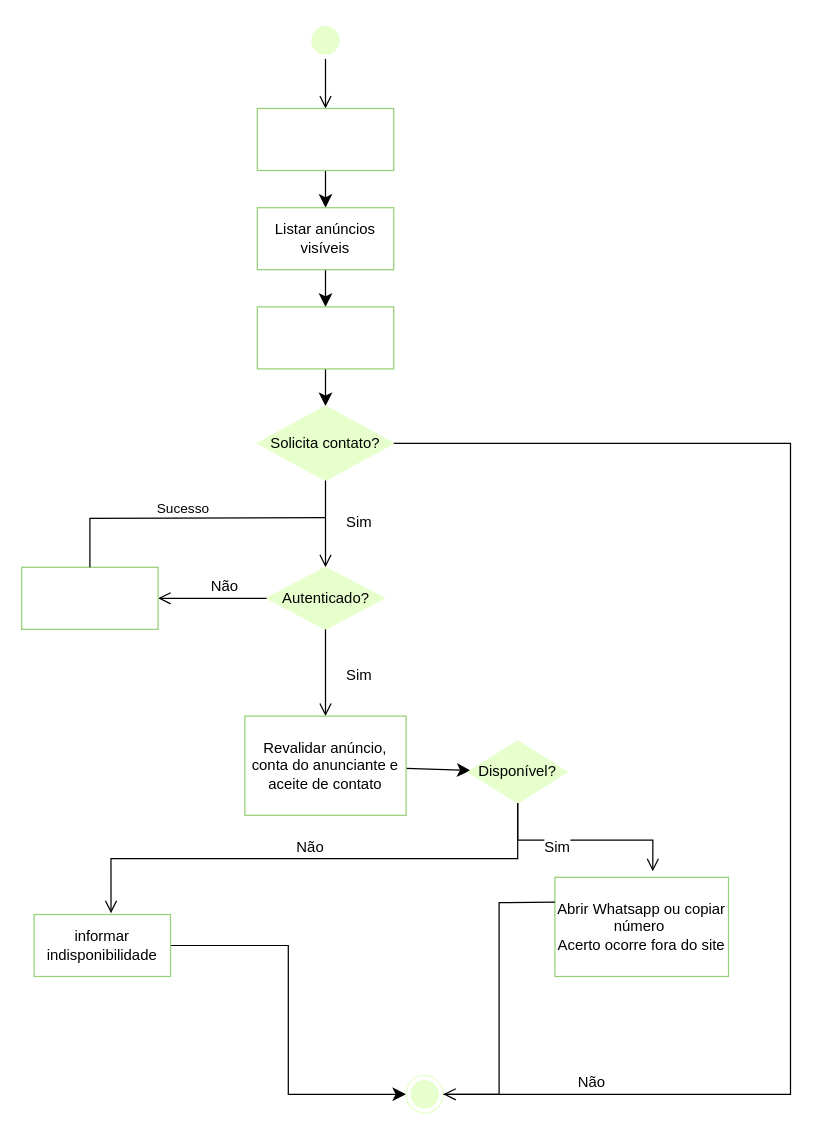
The diagram is 825 pixels wide and 1135 high, and some of its shapes have lost their labels. Each missing label, with the centre of its shape:
Executar UC02 Se sucesso, retornar ao anúncio: (x=89, y=597)
Informar filtros de busca: (x=325, y=138)
Selecionar e abrir detalhes: (x=325, y=337)
